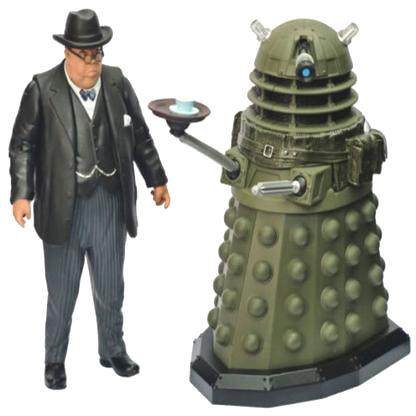dalek: (164, 14, 416, 408)
person: (2, 6, 173, 388)
